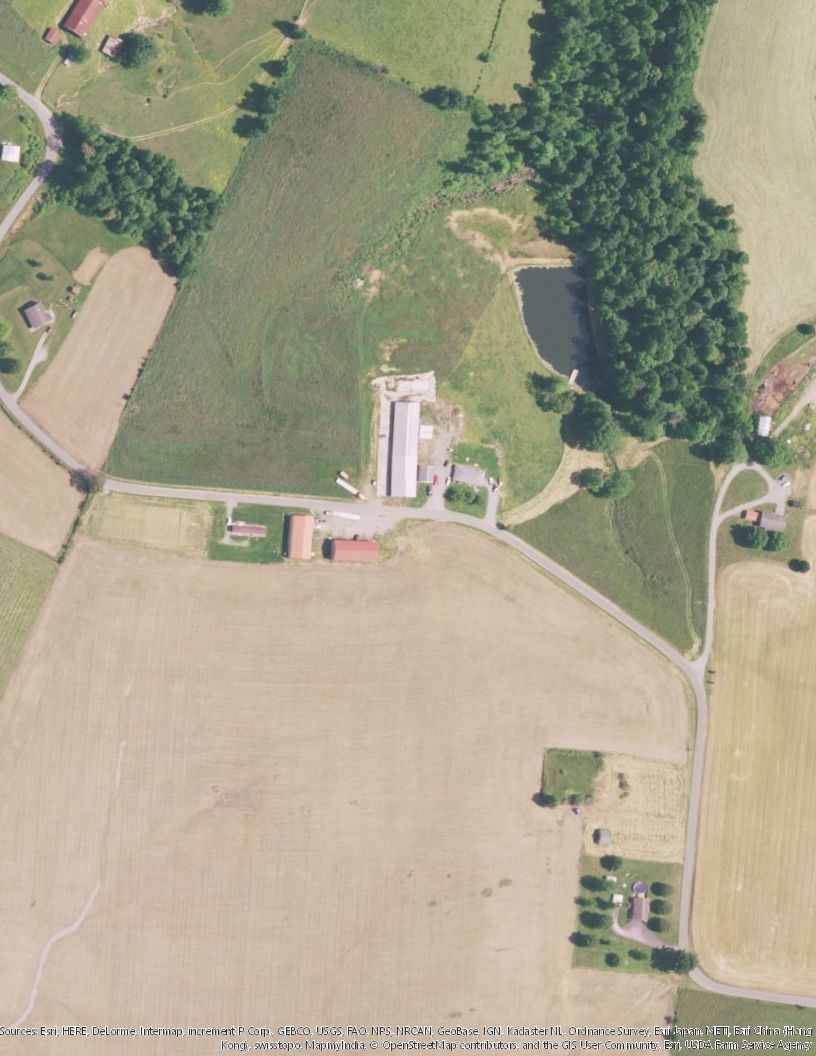cafo: (374, 397, 428, 497)
